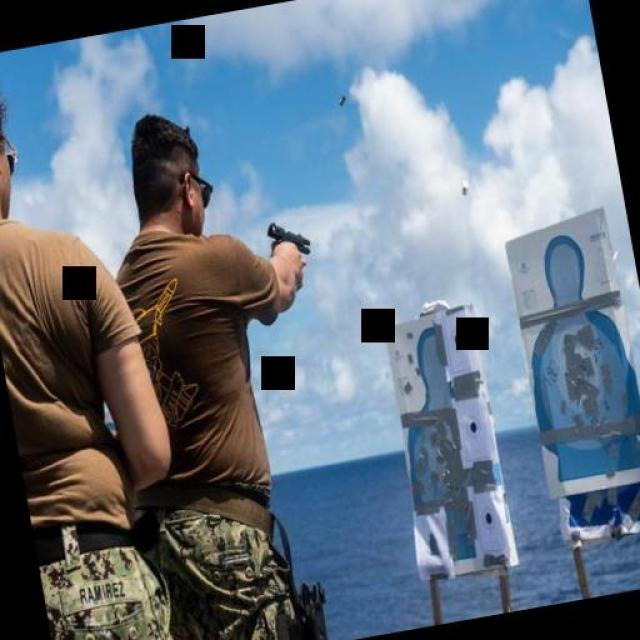gun: (260, 211, 315, 275)
